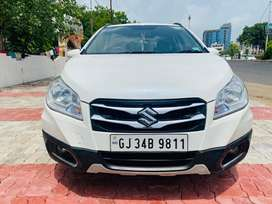GJ34B9811: (110, 134, 187, 151)
